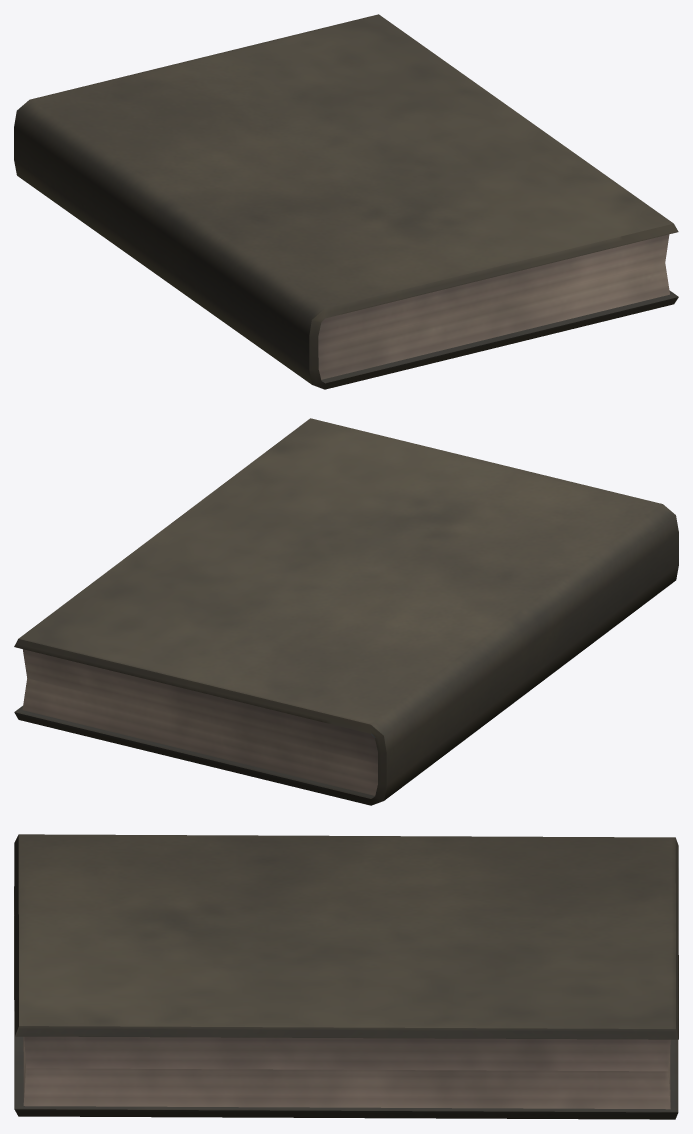
File: SM_Book_01.fbx
The picture shows the model from 3 angles, top to bottom: view 1: azimuth 30°, elevation 25°; view 2: azimuth 150°, elevation 25°; view 3: azimuth 270°, elevation 25°; orthographic projection. The views are drawn at different scales.
Parts seen in each view (by area): view 1: SM_Book_01_LOD0; view 2: SM_Book_01_LOD0; view 3: SM_Book_01_LOD0.
Part boxes in pixels (left/top/right/bottom): SM_Book_01_LOD0: left=14, top=14, right=678, bottom=389; SM_Book_01_LOD0: left=14, top=418, right=678, bottom=805; SM_Book_01_LOD0: left=14, top=834, right=678, bottom=1119.
Bounding box in the file's own units: 18.74 × 25.9 × 4.09.
1 material, 1 textured.
